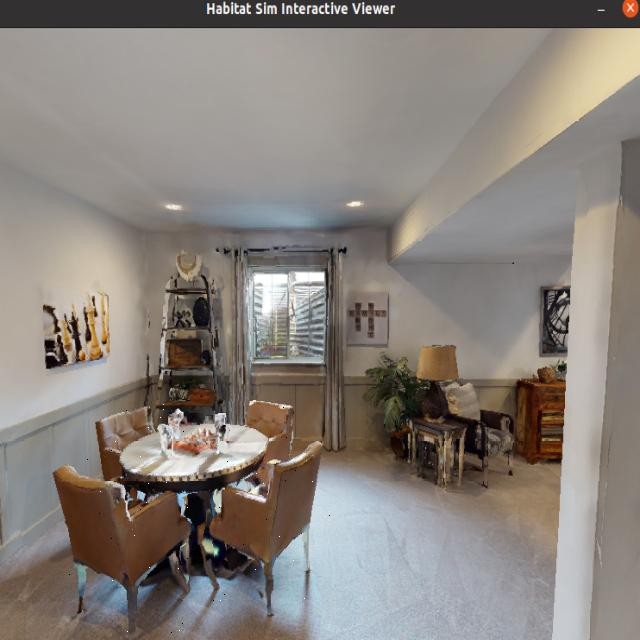chair: (61, 448, 200, 639), (213, 437, 331, 623)
table: (112, 401, 286, 575)
